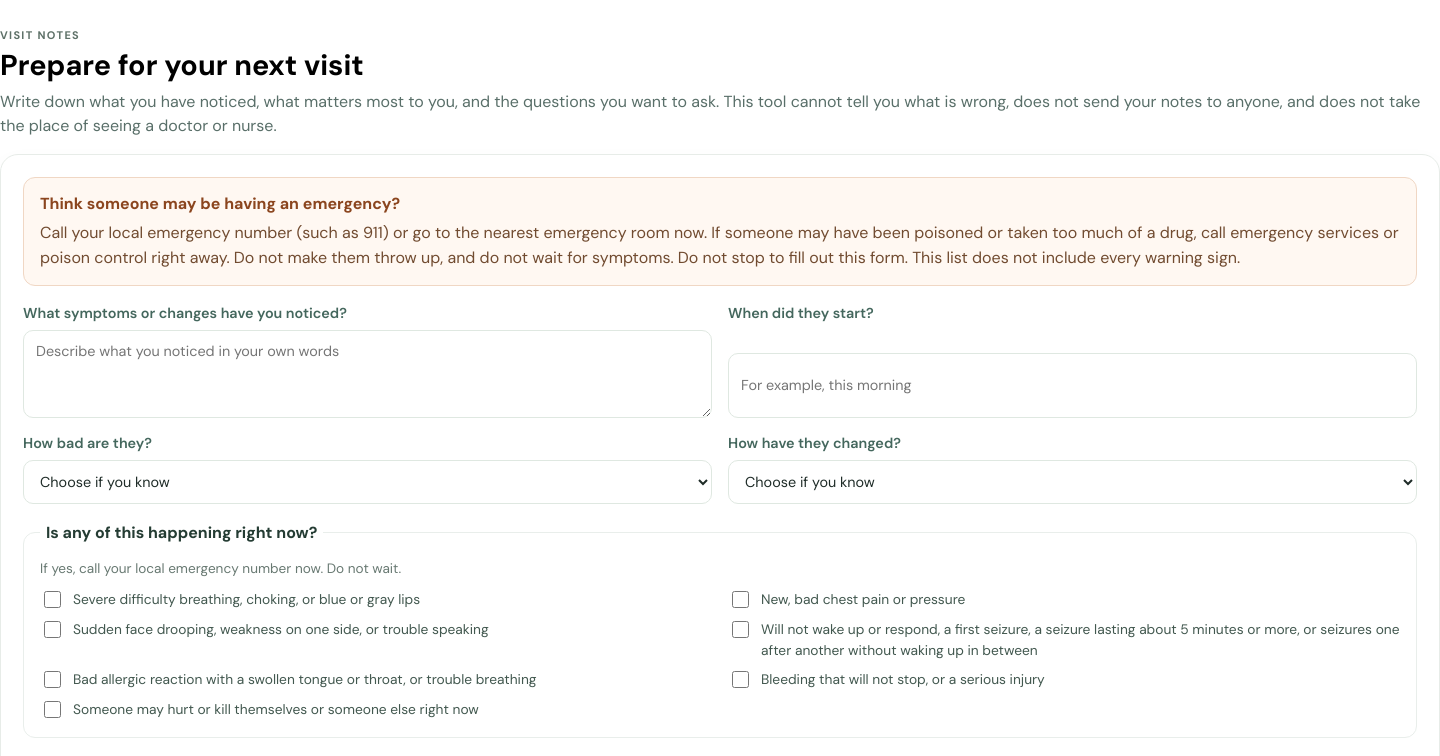
Test: creates an editable patient-reported summary for a visit
Step 1. Type "My incision has been more sore since yesterday." into the text box labelled "What symptoms or changes have you noticed?" → (368, 374), box [23,330,712,418]
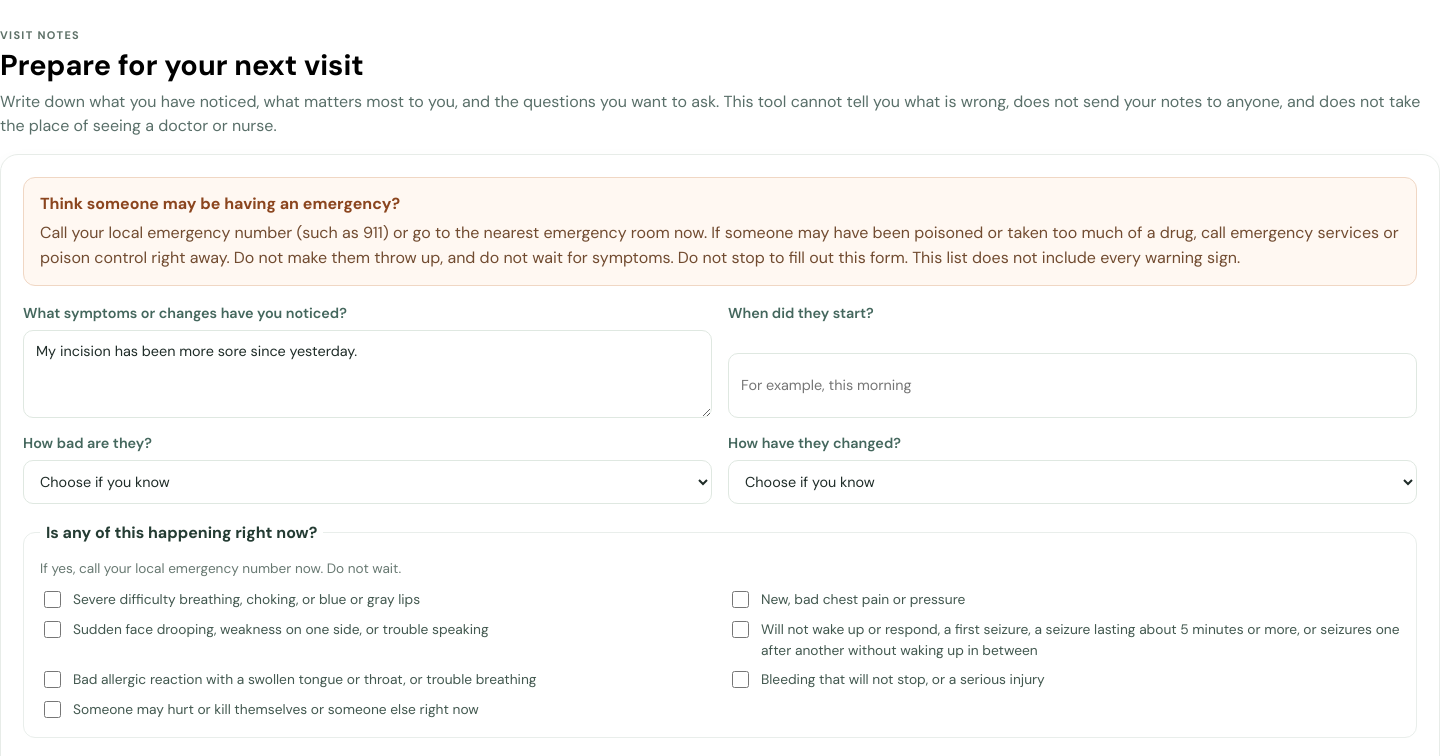
Step 2. Type "Yesterday afternoon" into the field labelled "When did they start?" → (1072, 385), box [728,353,1417,418]
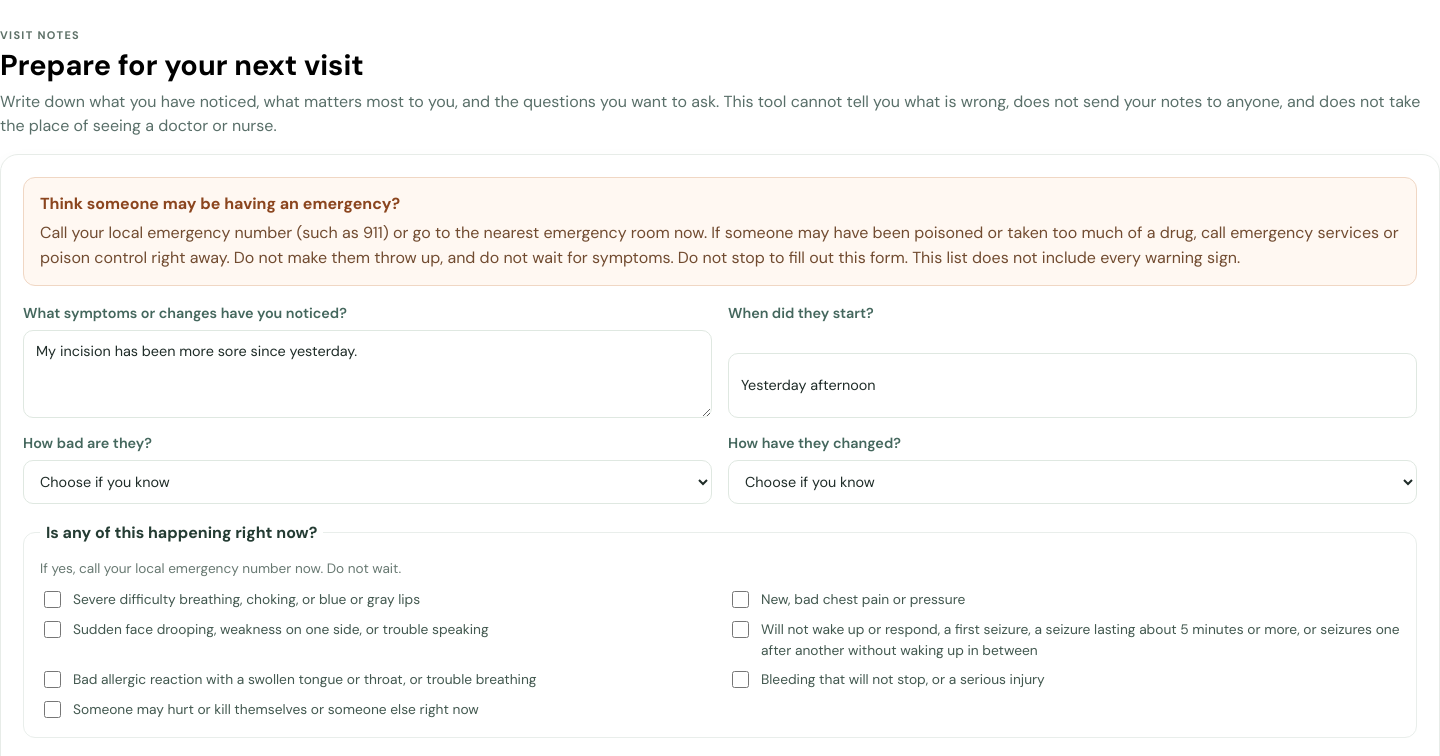
Step 3. Select "Moderate" in the dropdown labelled "How bad are they?" → (368, 482), box [23,460,712,504]
(page scrolled)
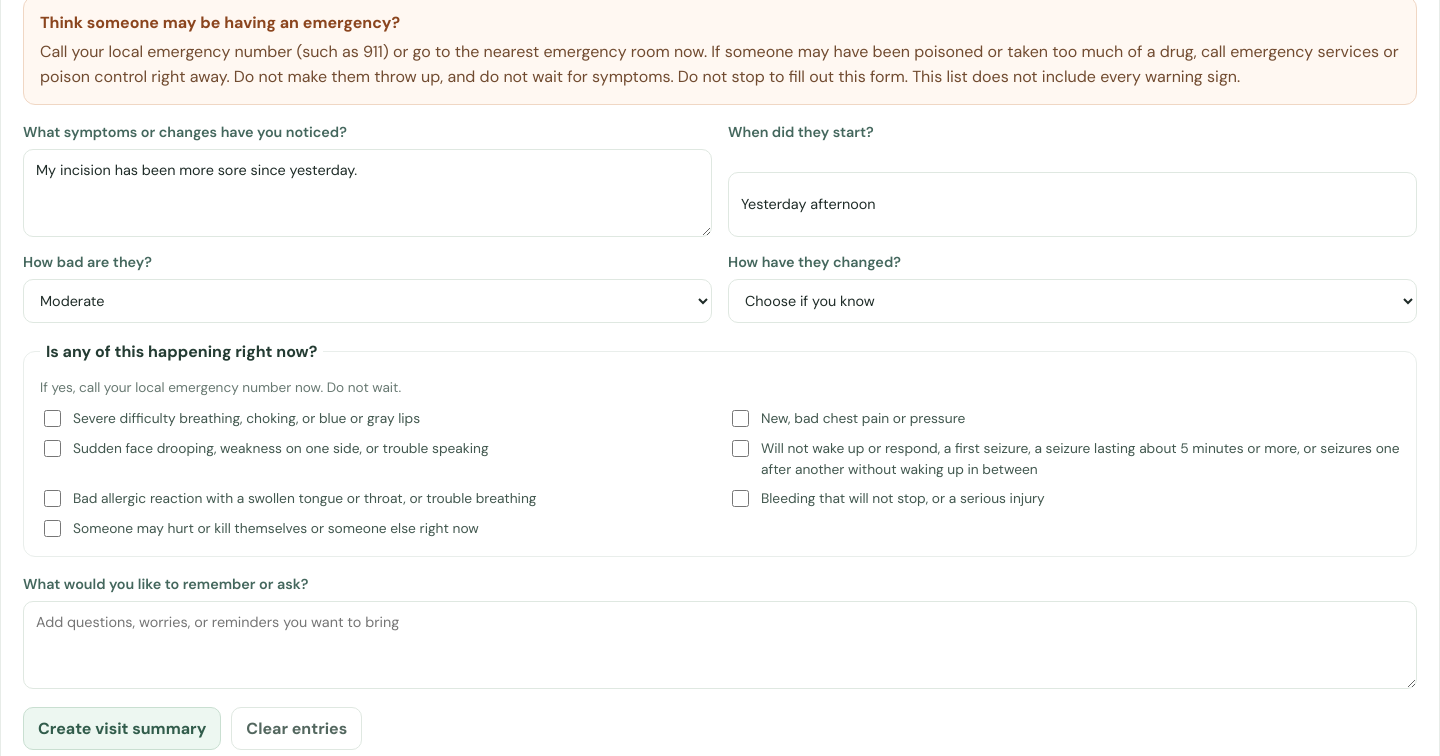
Step 4. Type "Should I arrange a follow-up?" into the text box labelled "What would you like to remember or ask?" → (720, 645), box [23,601,1417,689]
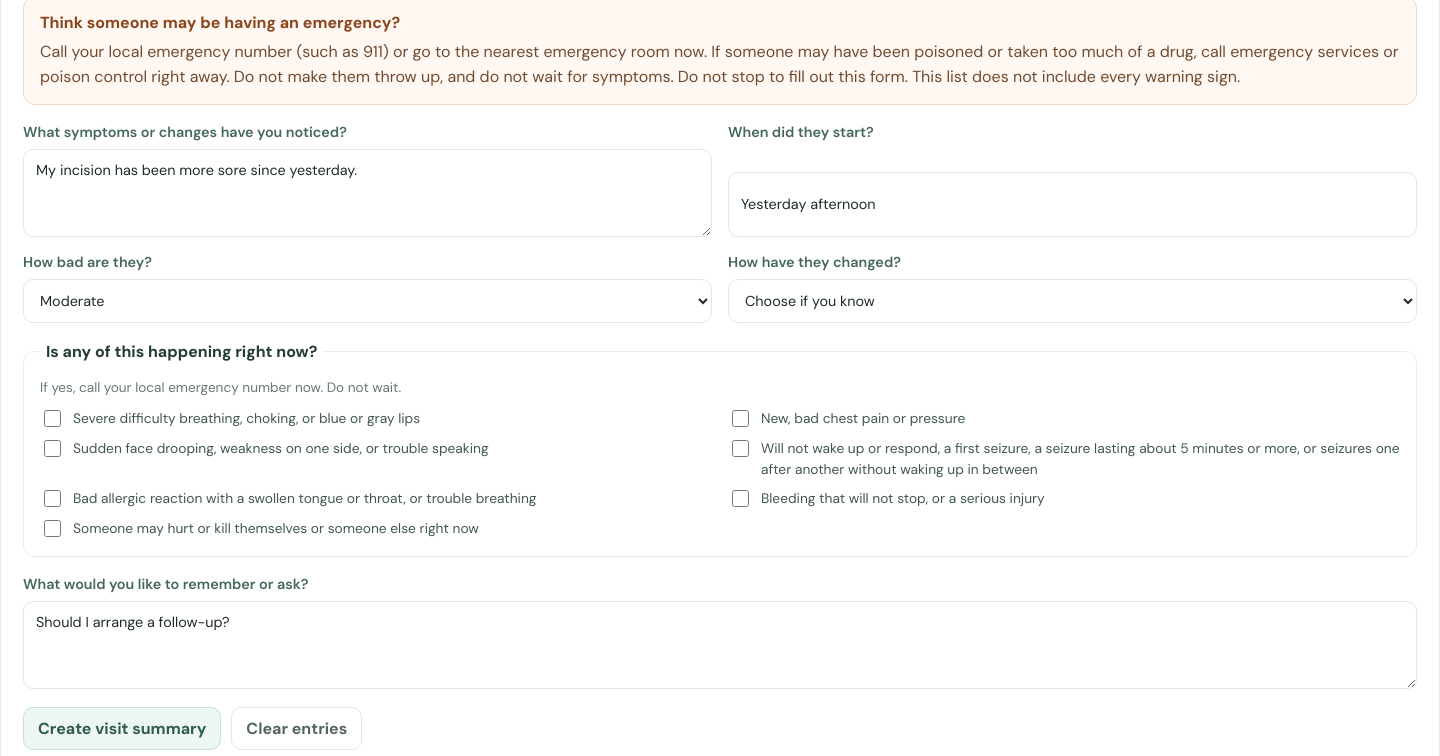
Step 5. Click the button "Create visit summary" → (122, 728), box [23,707,221,750]
(page scrolled)
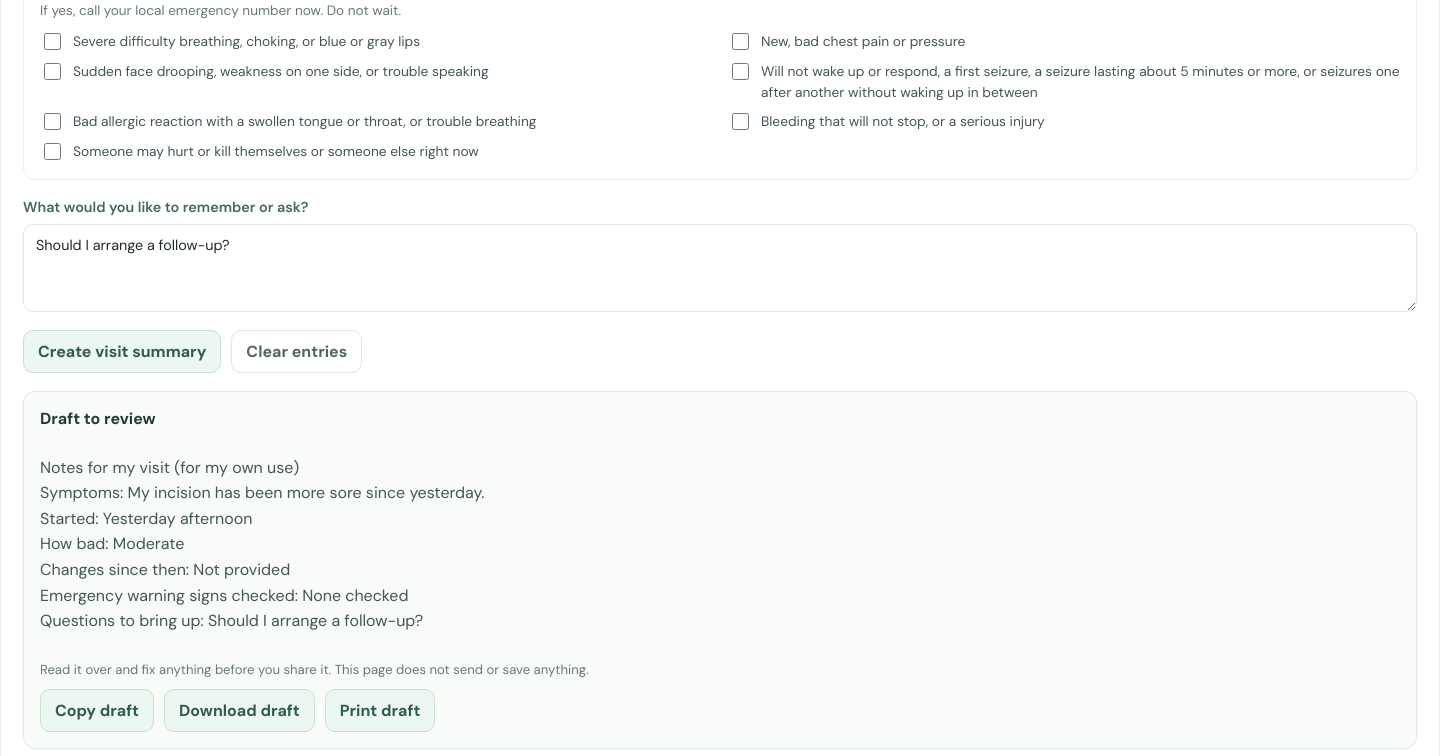
Expected: the text "Should I arrange a follow-up" is shown, [40,457,484,631]
Expected: the text "This page does not send or save anything" is shown, [40,661,589,678]
